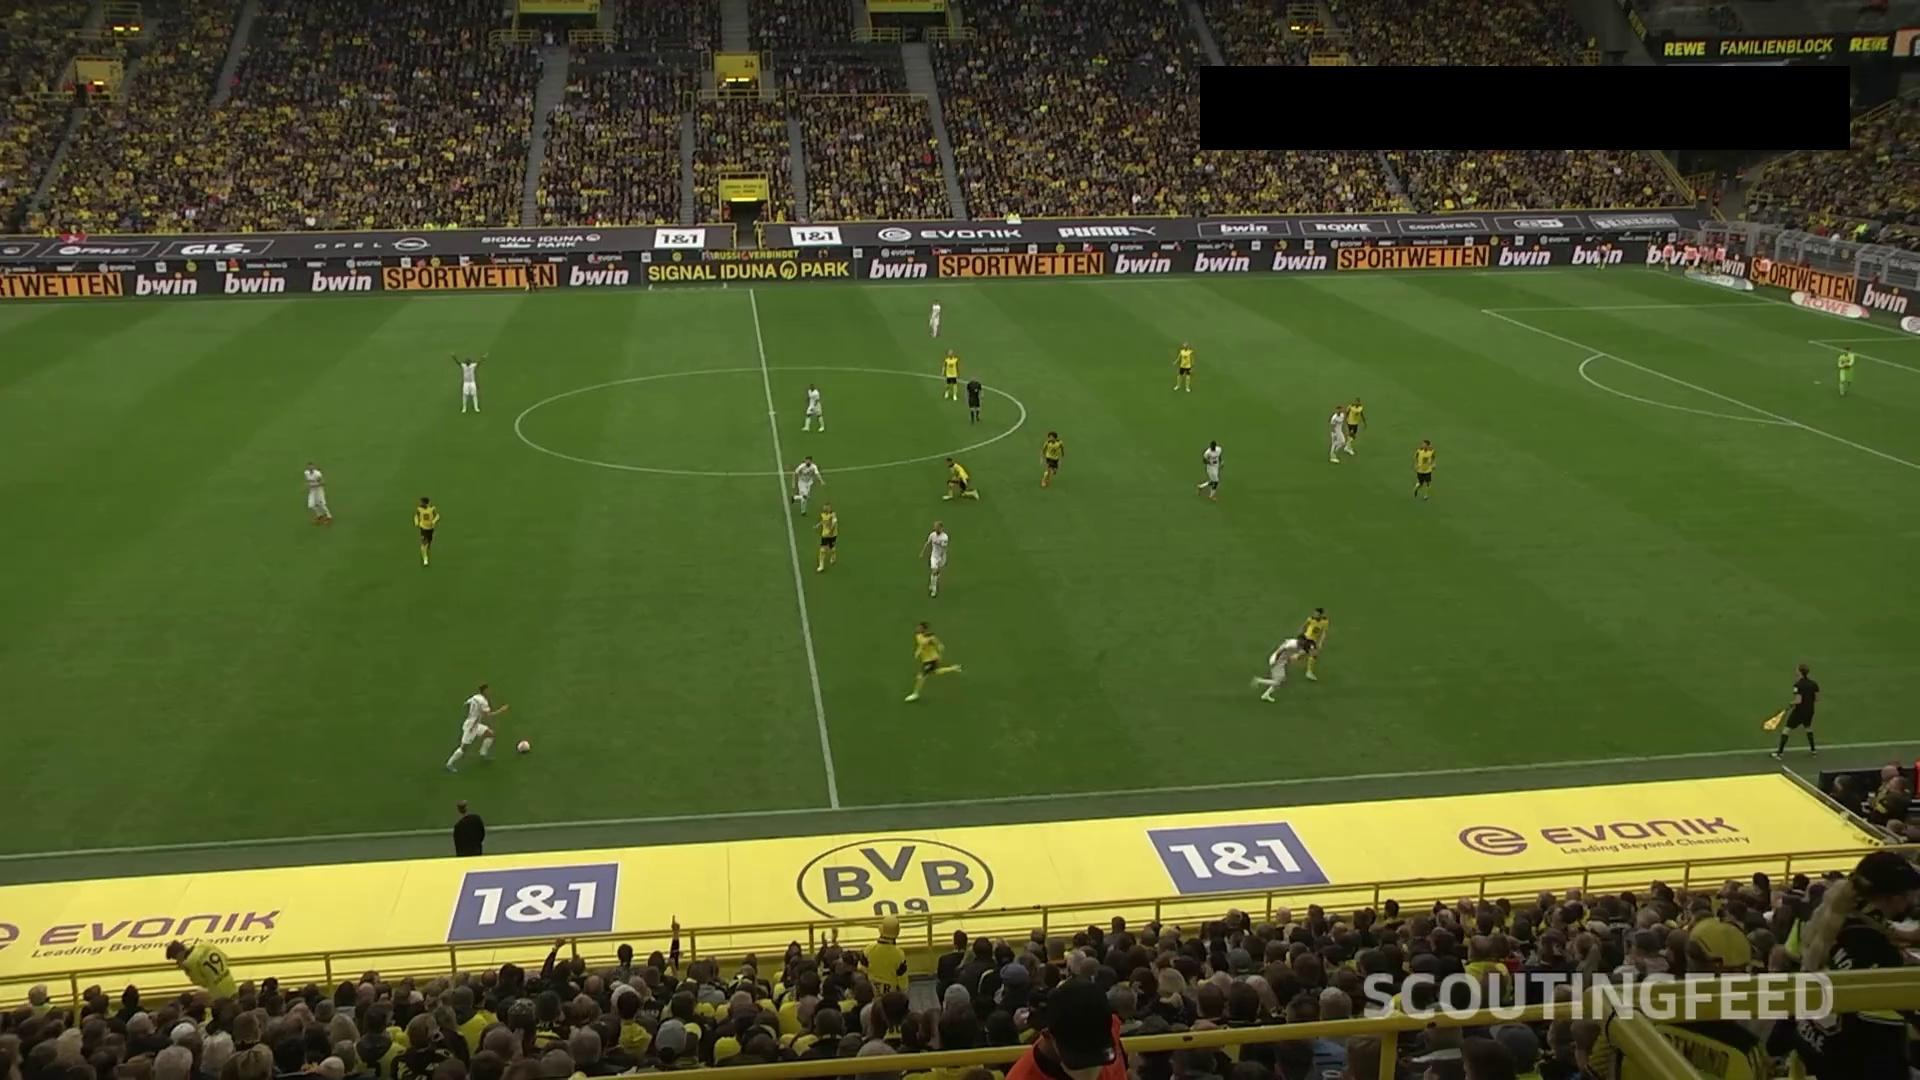Location-of-ball: (509, 727, 541, 758)
